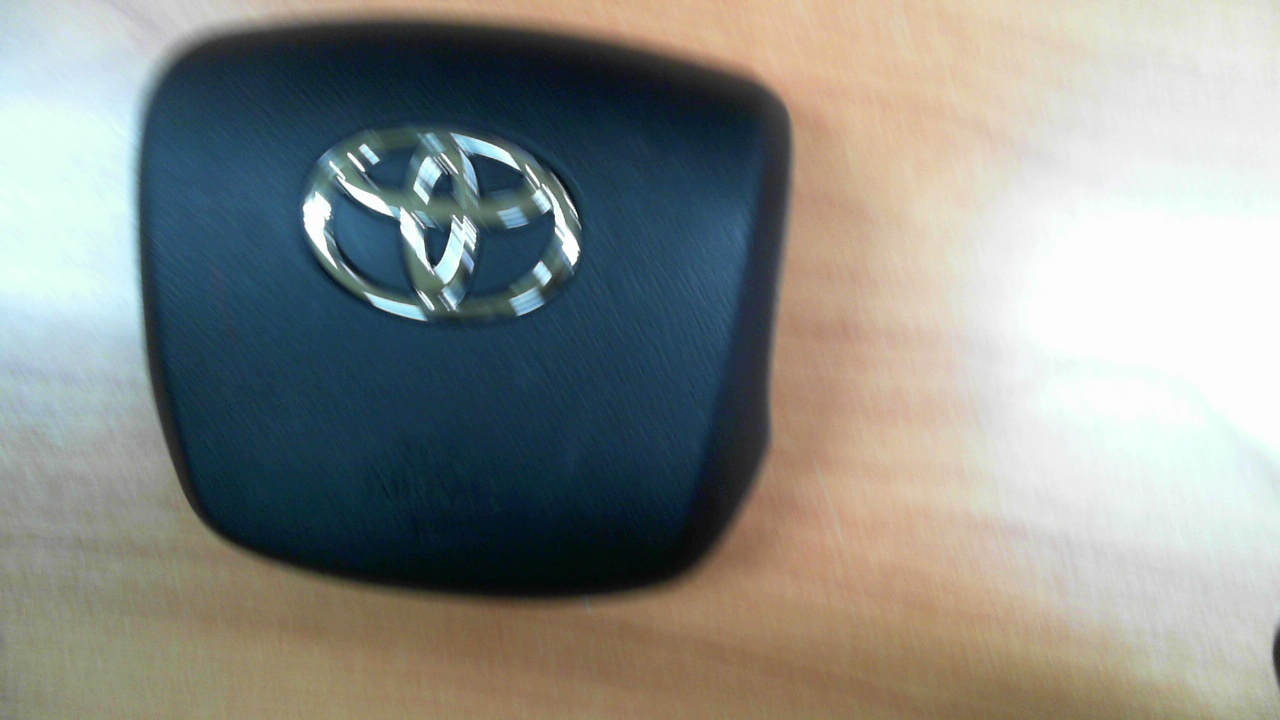Airbag: (133, 18, 793, 600)
Toyota: (301, 125, 583, 322)
